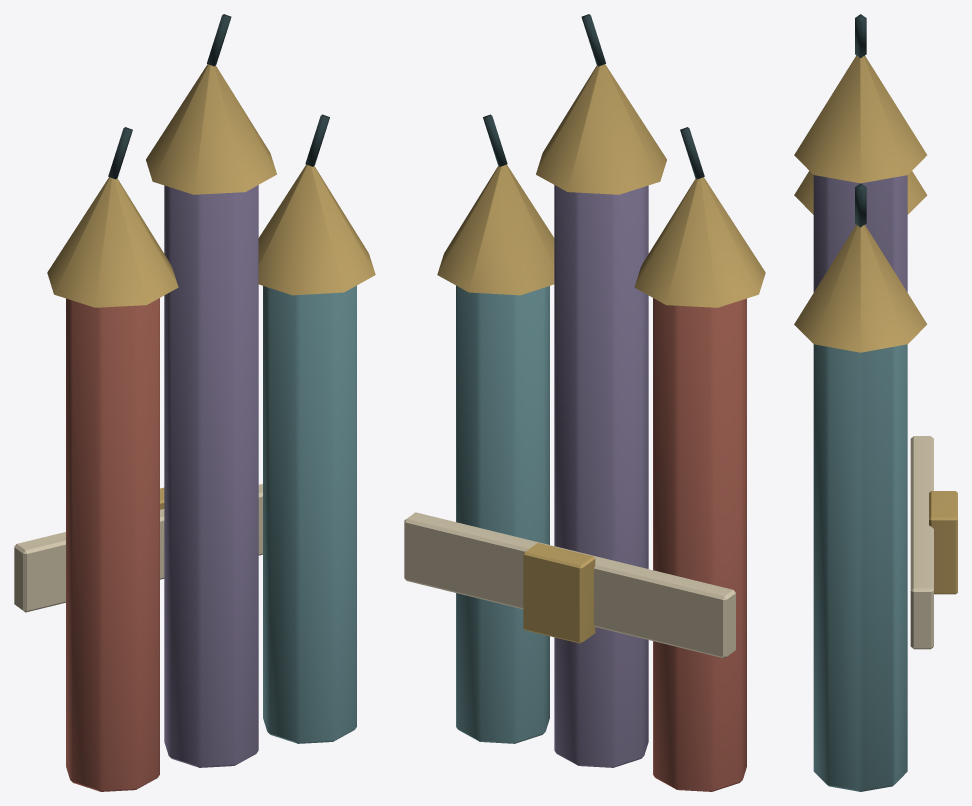
File: firework_low.glb
The picture shows the model from 3 angles, left to right: view 1: azimuth 30°, elevation 25°; view 2: azimuth 150°, elevation 25°; view 3: azimuth 270°, elevation 25°; orthographic projection.
Bounding box in the file's own units: 0.19 × 0.411 × 0.0852.
